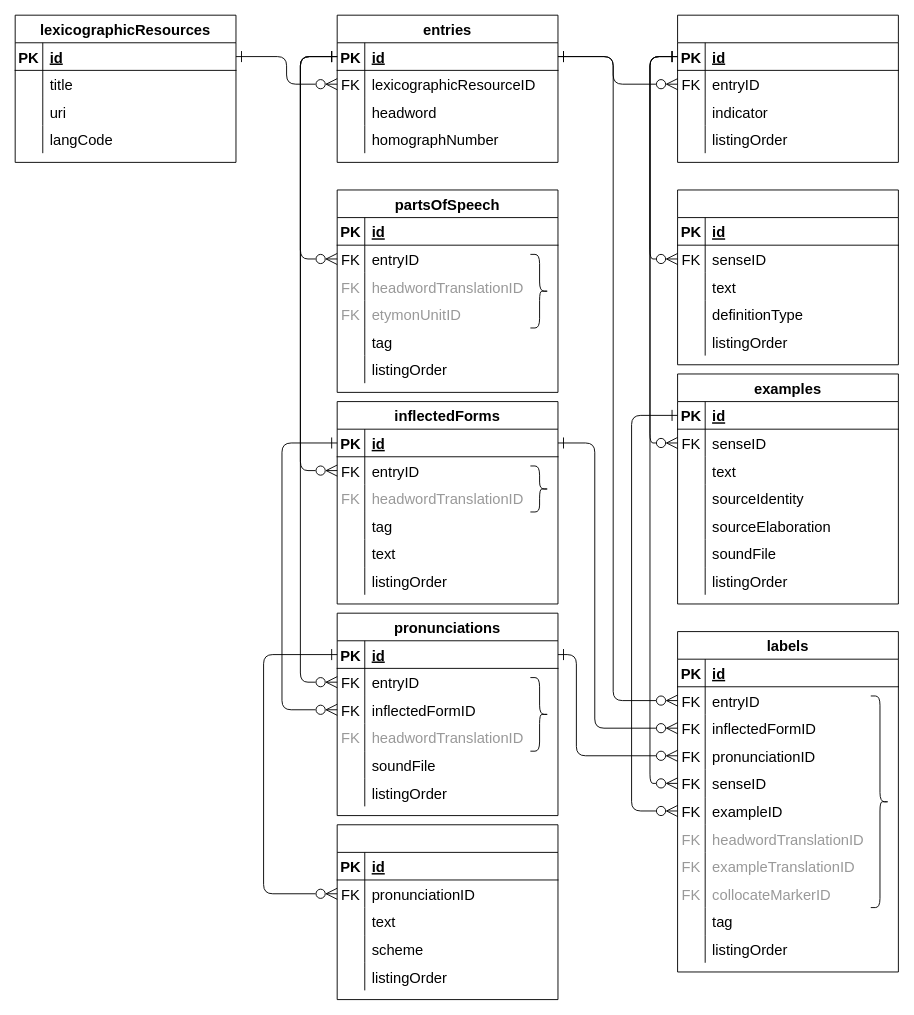
This 914x1015 diagram has some shape labels left out. The shapes that lost their labels are listed below. From the top down, each one's box as (x1, y1, x2, y2) in pixels, then its label:
(677, 14, 898, 162): senses
(677, 189, 898, 365): definitions
(336, 824, 558, 1000): transcriptions
